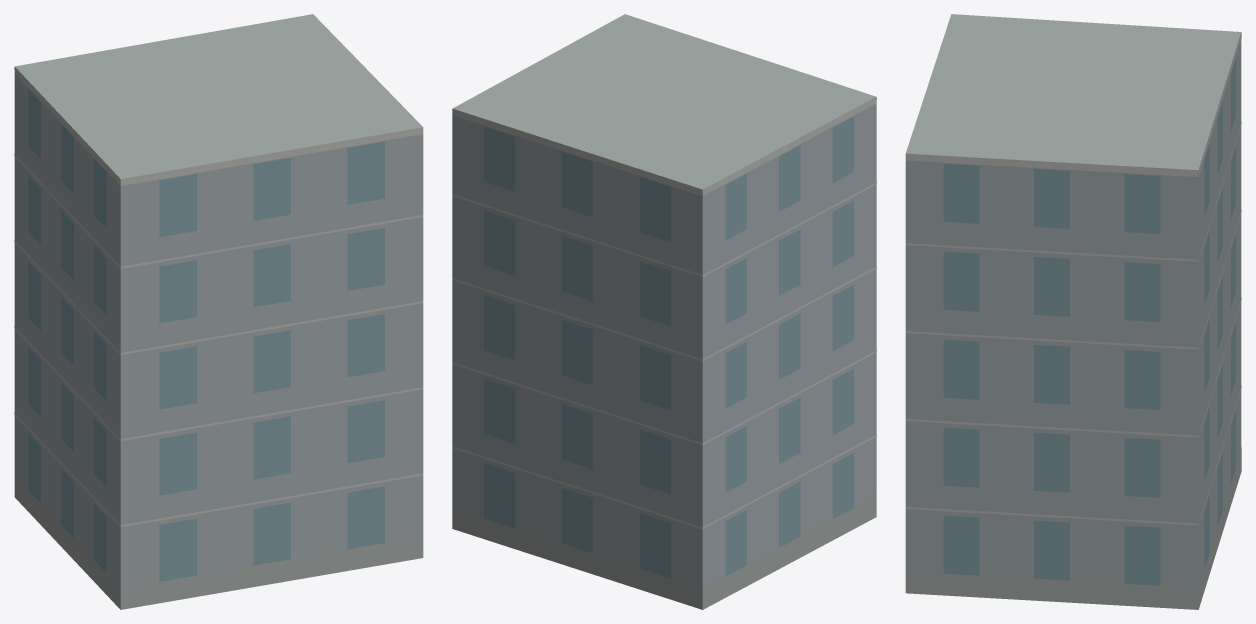
The model's file is residential-abc7b864-ffd2-4081-9036-98f47a6f5c89.glb.
The picture shows the model from 3 angles, left to right: view 1: azimuth 30°, elevation 25°; view 2: azimuth 150°, elevation 25°; view 3: azimuth 270°, elevation 25°; orthographic projection. The views are drawn at different scales.
Parts seen in each view (by area): view 1: residential-abc7b864-ffd2-4081-9036-98f47a6f5c89.tmp; view 2: residential-abc7b864-ffd2-4081-9036-98f47a6f5c89.tmp; view 3: residential-abc7b864-ffd2-4081-9036-98f47a6f5c89.tmp.
Part boxes in pixels (<box>): residential-abc7b864-ffd2-4081-9036-98f47a6f5c89.tmp: <box>14,14,423,609</box>; residential-abc7b864-ffd2-4081-9036-98f47a6f5c89.tmp: <box>452,14,876,609</box>; residential-abc7b864-ffd2-4081-9036-98f47a6f5c89.tmp: <box>905,14,1241,609</box>.
Size of the model in its own units: 11.64 by 15.25 by 10.58.
